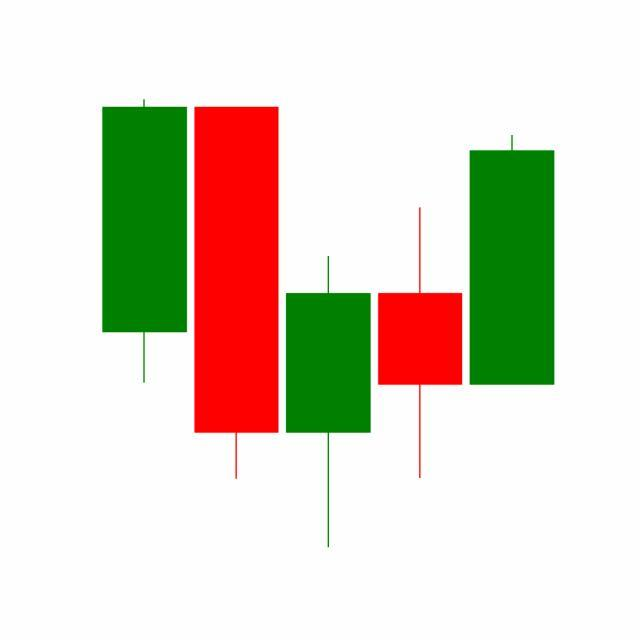Marubozu: (466, 134, 559, 388)
